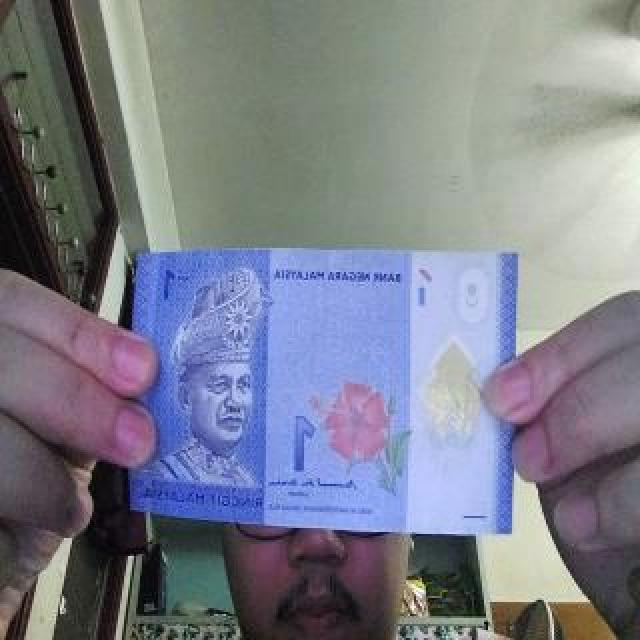1 Ringgit: (124, 248, 517, 535)
